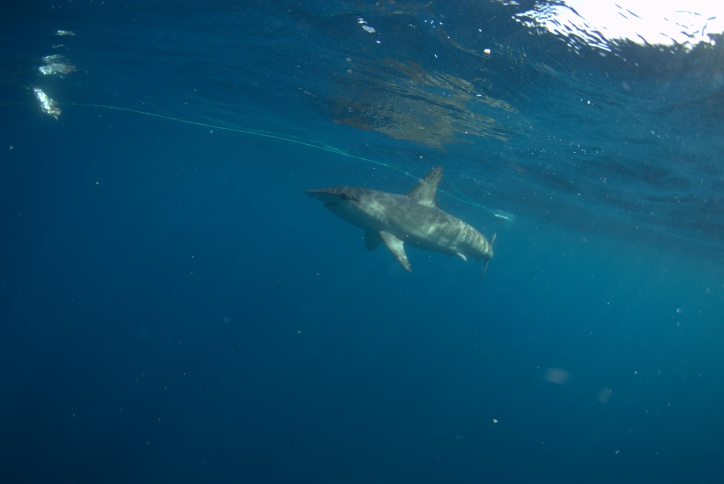Hammer: (276, 139, 515, 303)
